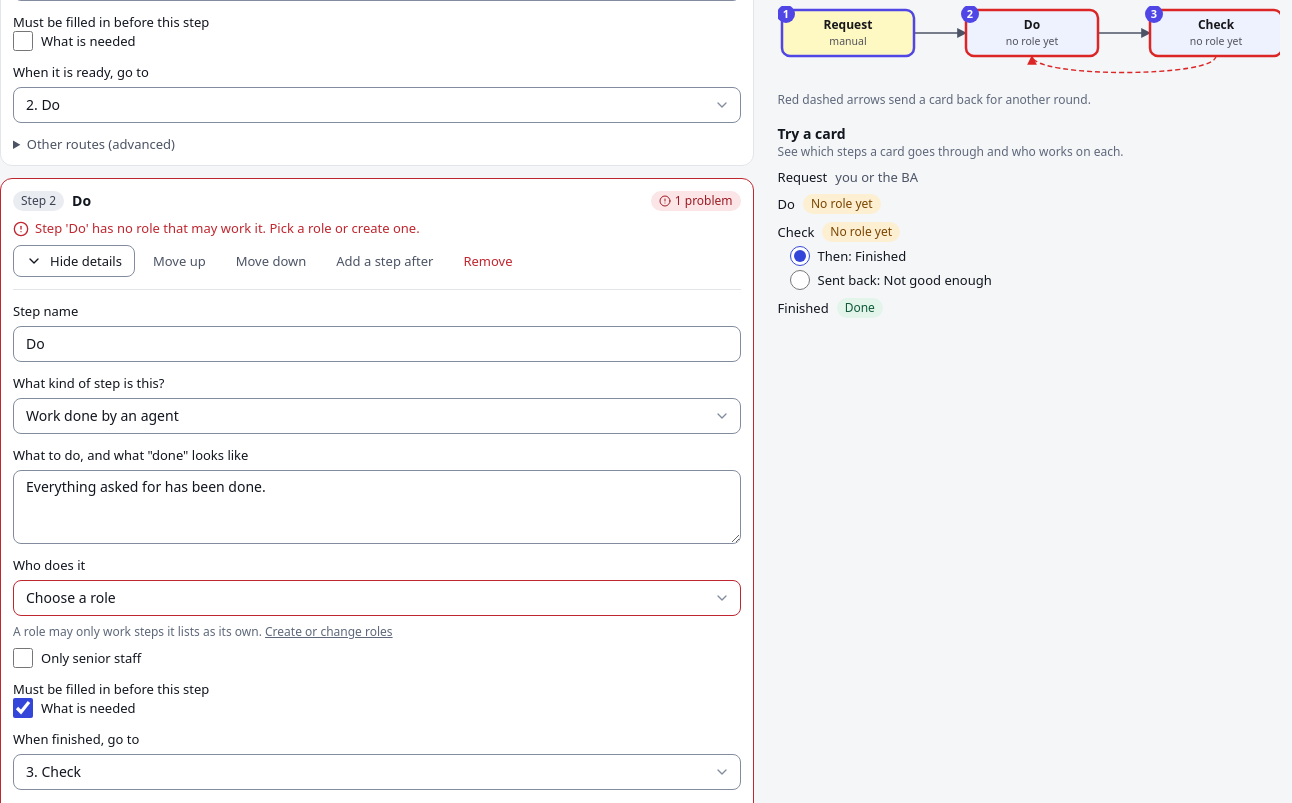
it: sub-workflow step editor › says plainly on the step that no workflow is chosen, then clears it once one is picked
The image size is (1292, 803).
(page scrolled)
Select "Start another workflow" in the dropdown labelled "What kind of step is this?": (377, 416) [13,398,741,434]
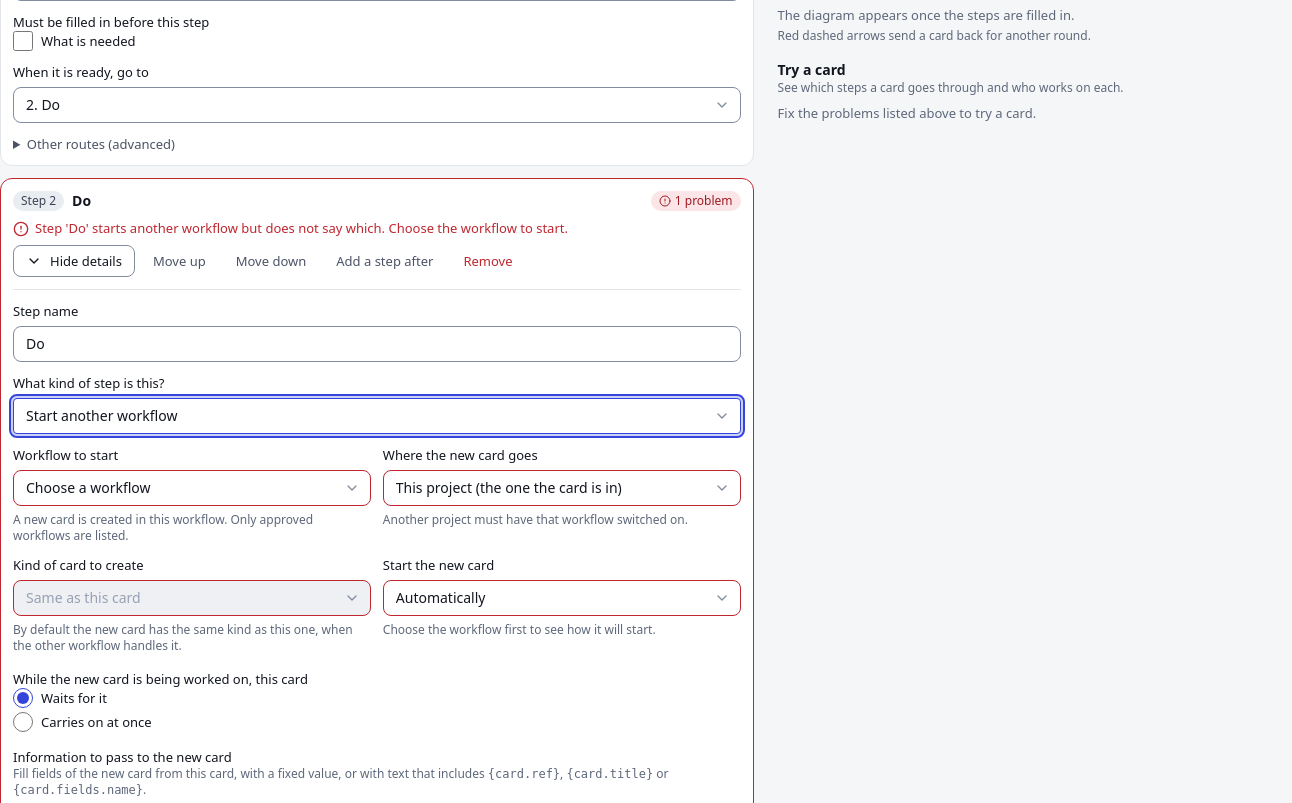
Expected: the text "does not say which" is shown, [35,219,568,237]
Select "Translate" in the dropdown labelled "Workflow to start": (192, 488) [13,470,371,506]
(page scrolled)
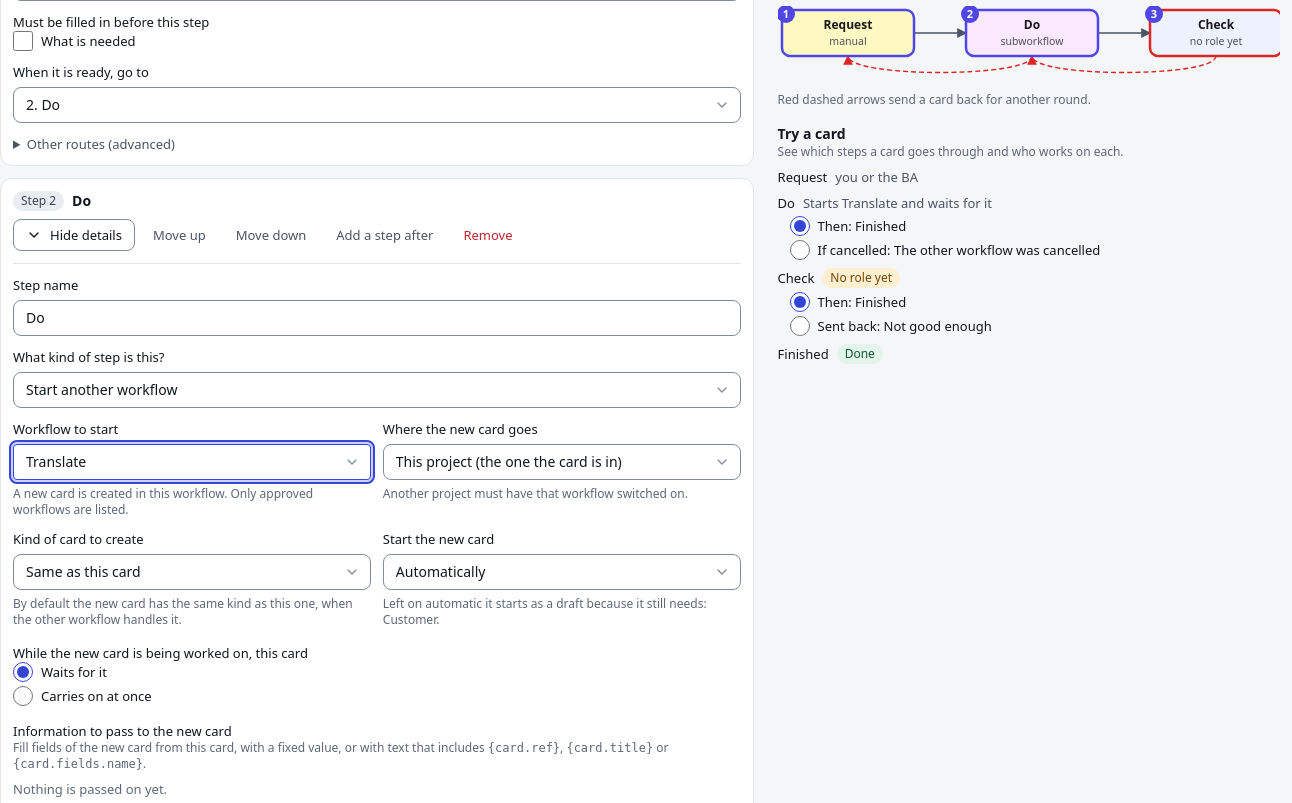
Expected: the text "does not say which" is gone
